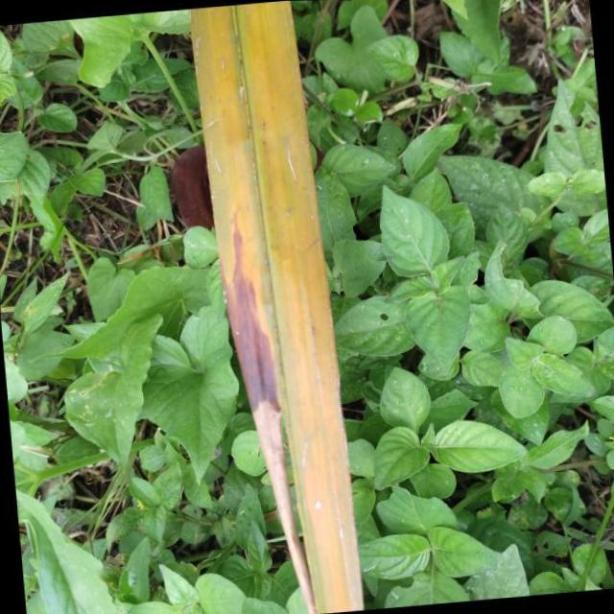Megnesium: (187, 0, 366, 614)
